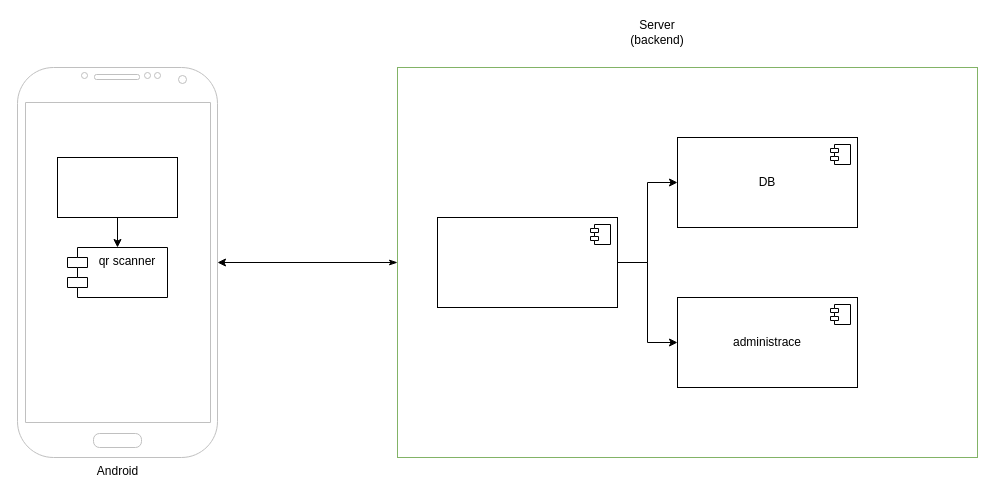
Image size: 995x495. Some labels were removed from this diagram. The centre of each missing label's shape, as x and y in pixels:
"backend REST api" belongs at (x=527, y=262).
"SAMeal" belongs at (x=117, y=187).
